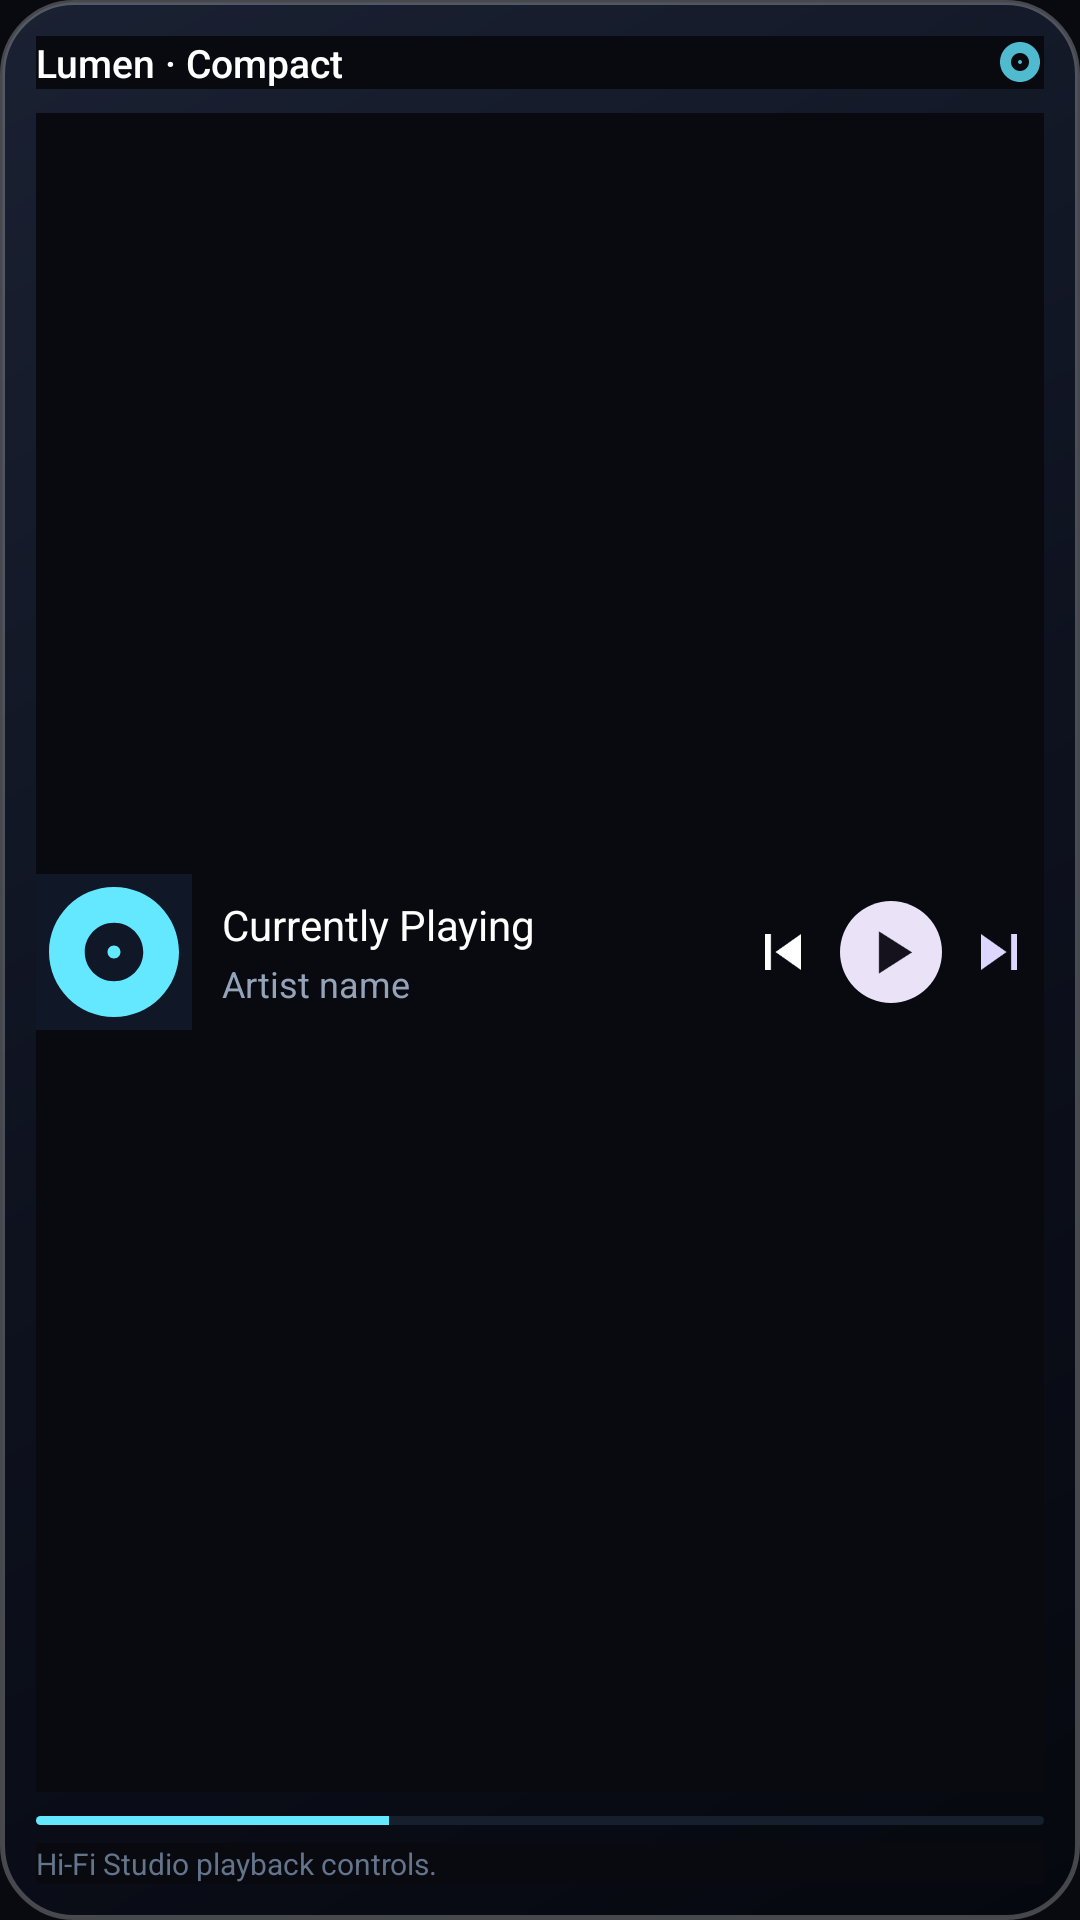

Named icons in this screenshot (1080w x 1920h) and their centers, (x=x, y=y):
Next: (x=999, y=952)
Play/Pause: (x=891, y=952)
Previous: (x=783, y=952)
widget disc: (x=1020, y=62), (x=114, y=952)
